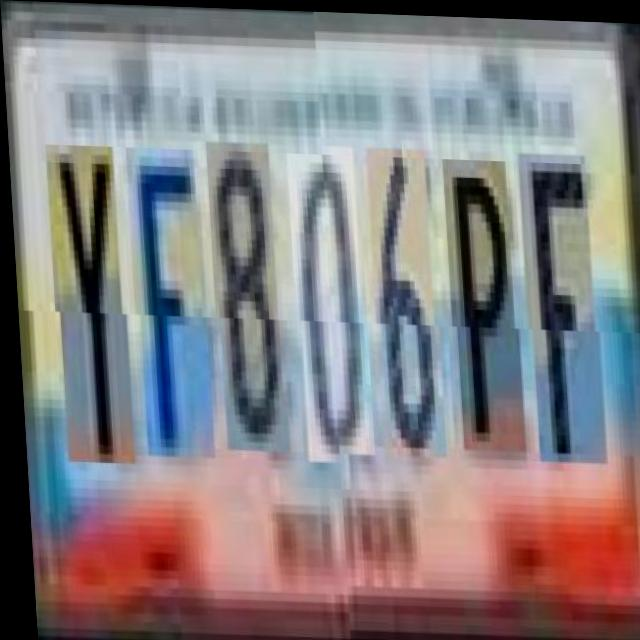6: (369, 154, 442, 464)
8: (208, 140, 285, 450)
f: (520, 158, 602, 469), (128, 147, 210, 457)
o: (289, 151, 371, 462)
p: (445, 165, 521, 458)
y: (48, 144, 130, 463)
